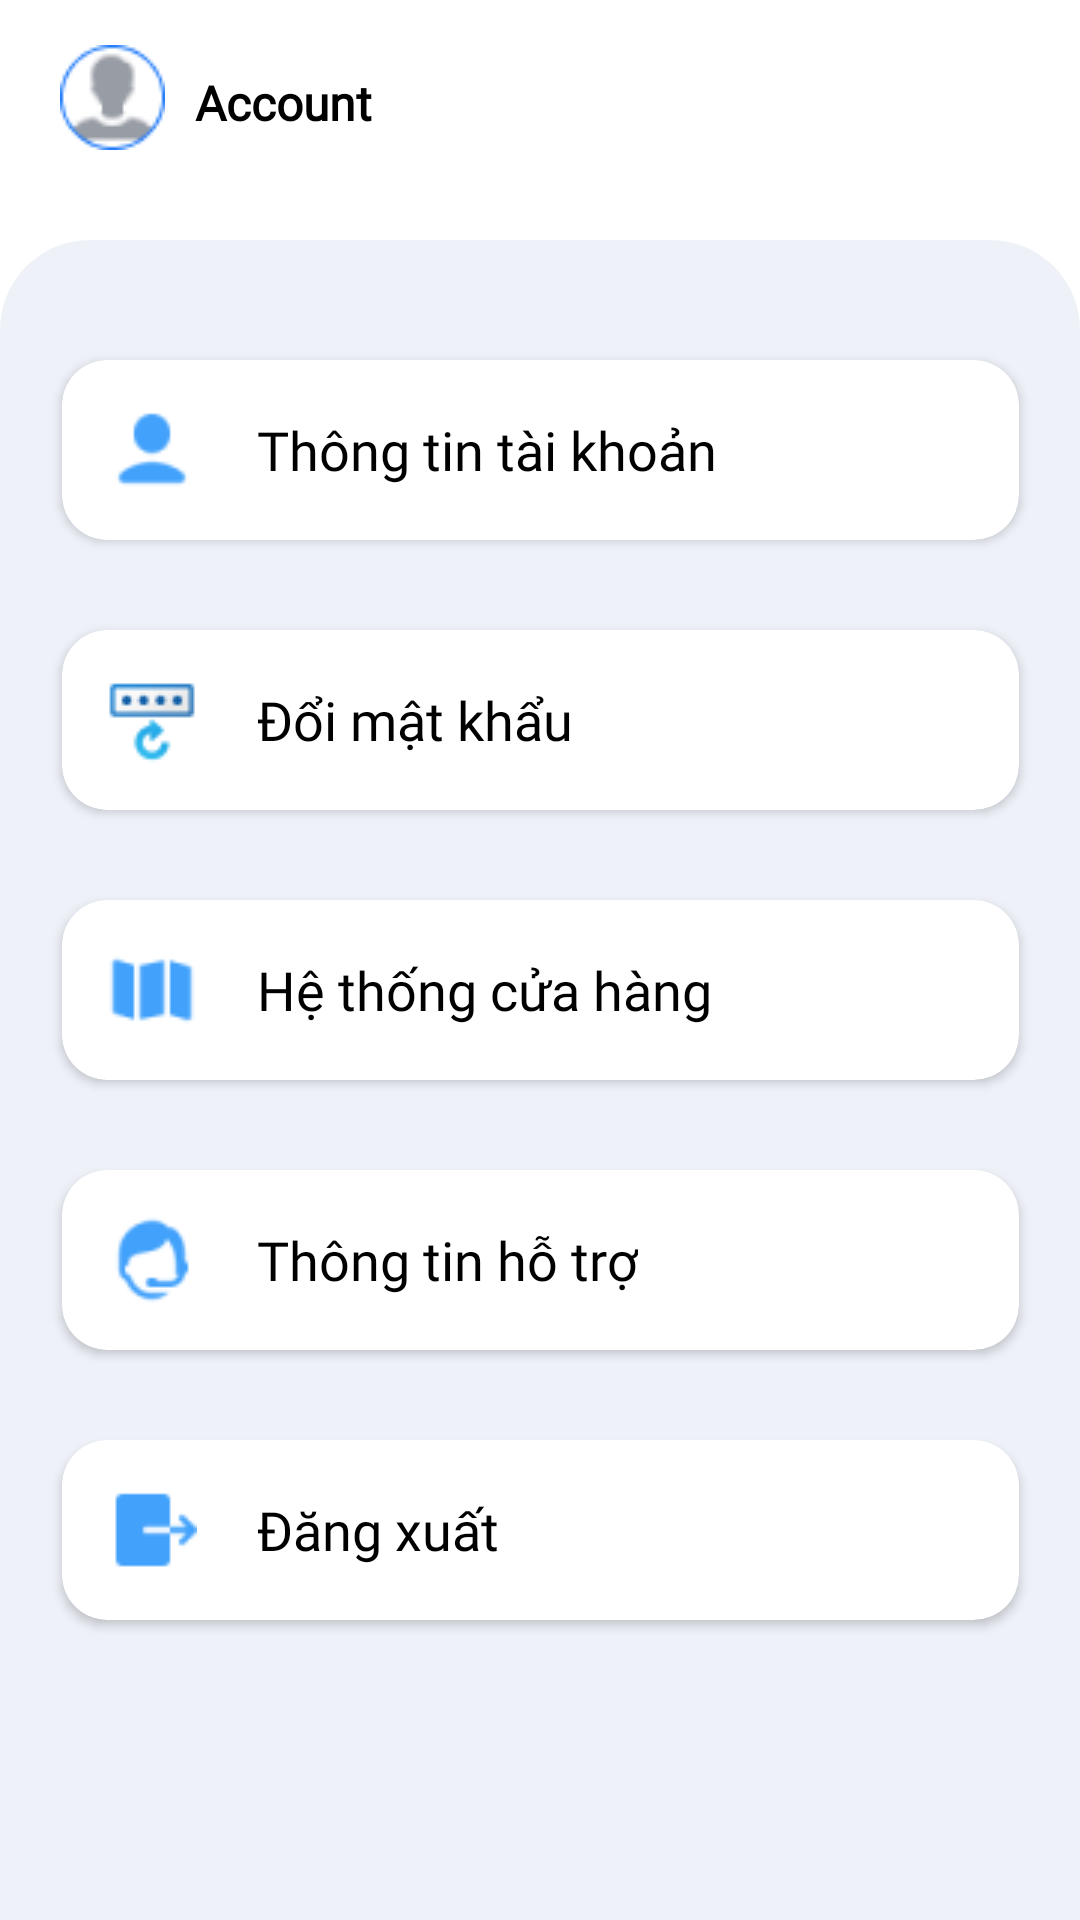

Screen size 1080x1920. Icon name, then its center in pixels as point (x, y):
user: point (152, 448)
user change pass: point (152, 721)
user online support: point (153, 1260)
user store list: point (152, 990)
